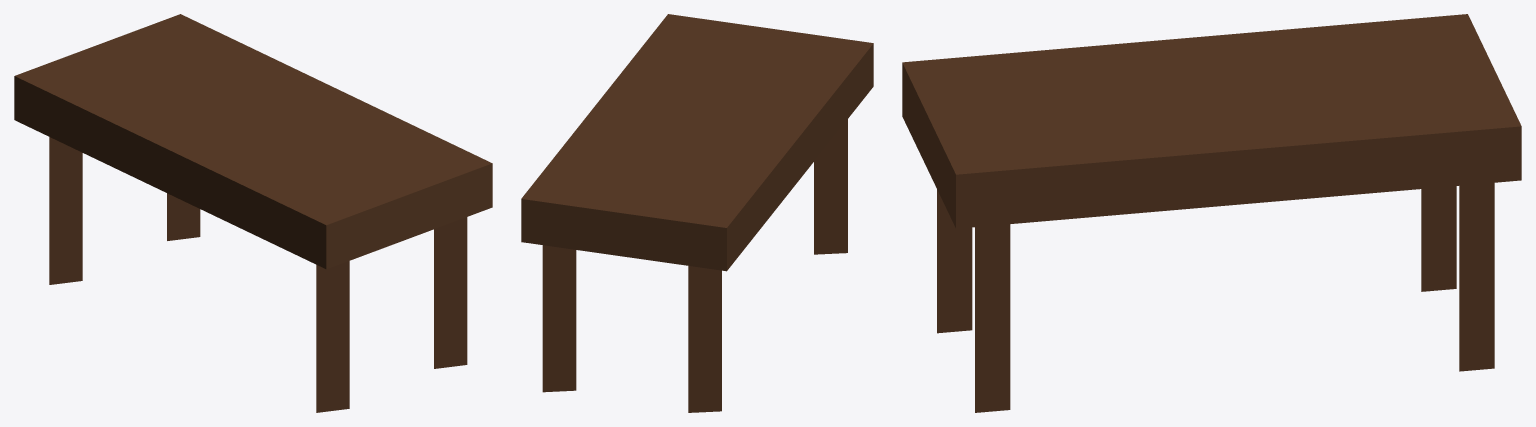
The model's file is TABLE 2.fbx.
3 renders of one model, left to right at view 1: azimuth 30°, elevation 25°; view 2: azimuth 150°, elevation 25°; view 3: azimuth 270°, elevation 25°, orthographic. The views are drawn at different scales.
Visible parts, largest first — view 1: TABLE_2; view 2: TABLE_2; view 3: TABLE_2.
Boxes of the visible parts, x1,y1,x2,y2 form: TABLE_2: (14,14,492,412); TABLE_2: (521,14,873,412); TABLE_2: (902,14,1521,412).
Size of the model in its own units: 138 by 99.75 by 225.
Materials: 1 (1 with a texture image).
